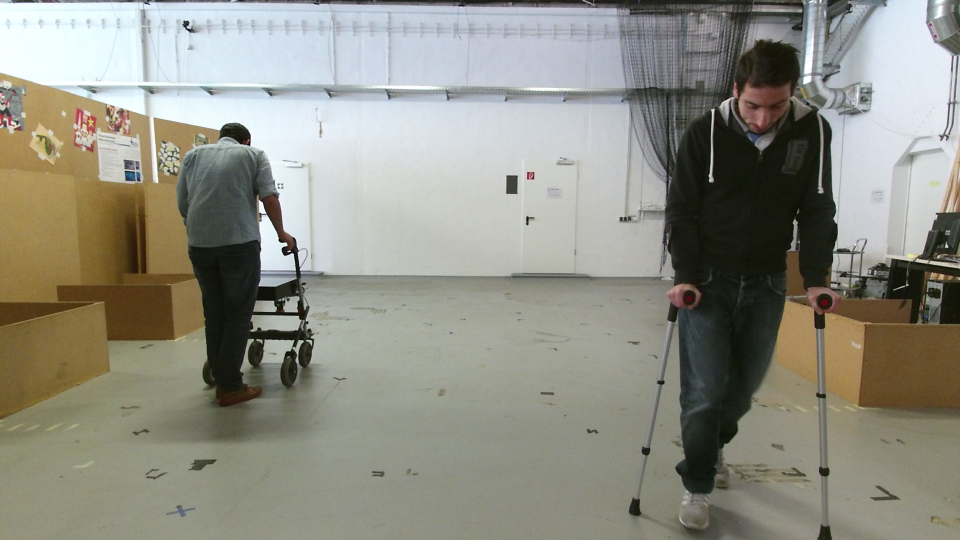crutches: (623, 36, 845, 539)
